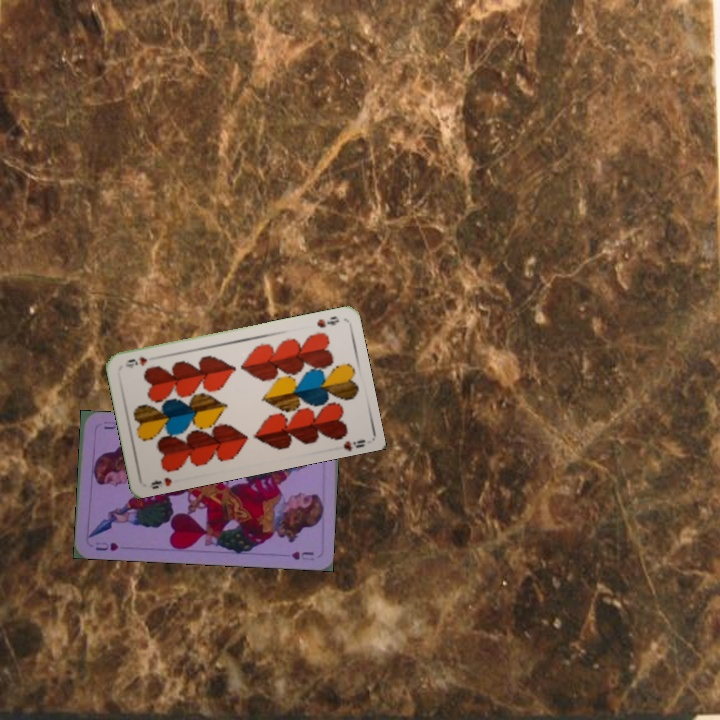H9: (313, 312, 342, 330), (147, 473, 174, 491)
HU: (92, 538, 121, 553)
